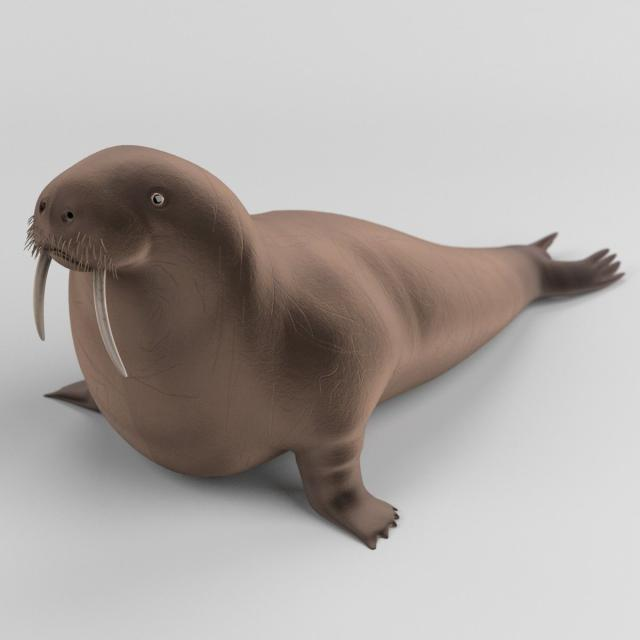walrus: (10, 92, 607, 577)
